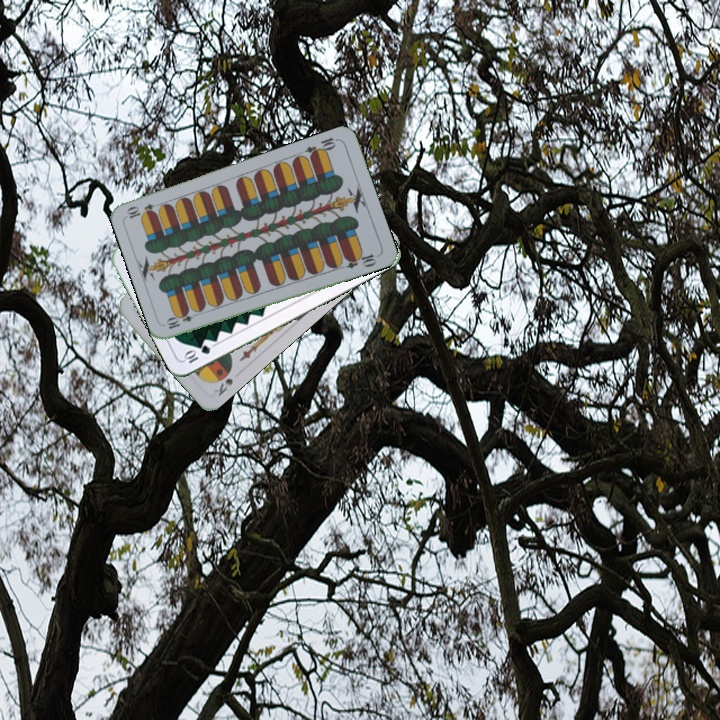E10: (301, 133, 341, 161), (162, 307, 202, 332)
G10: (180, 341, 213, 366)
SK: (210, 374, 235, 399)
